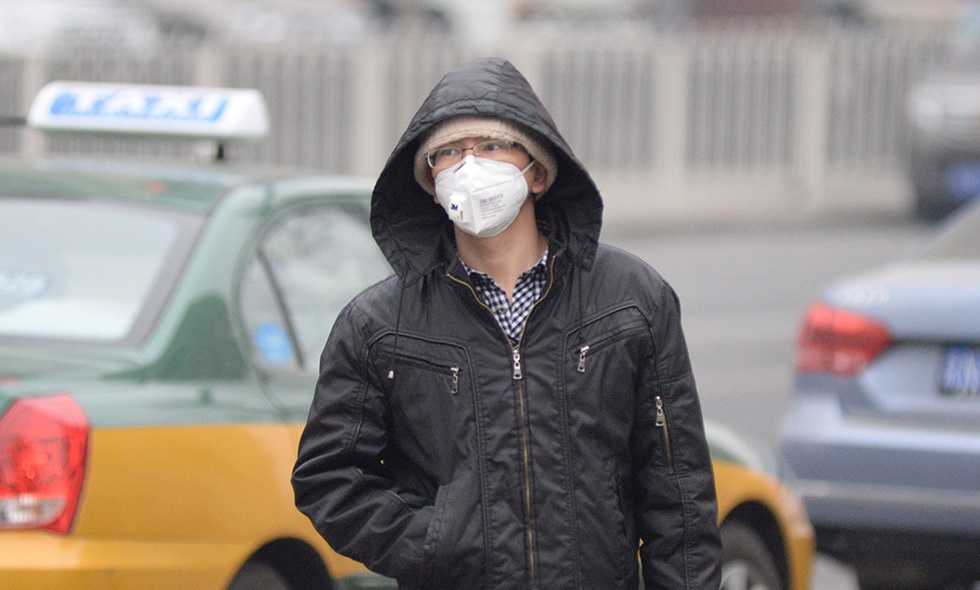face_mask: (437, 115, 531, 239)
